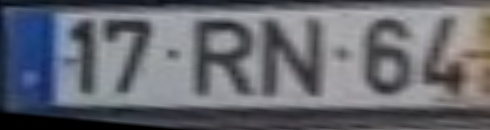1: (64, 17, 101, 99)
4: (417, 15, 476, 100)
6: (360, 16, 419, 101)
7: (102, 18, 159, 99)
N: (255, 16, 330, 103)
R: (190, 19, 263, 100)
